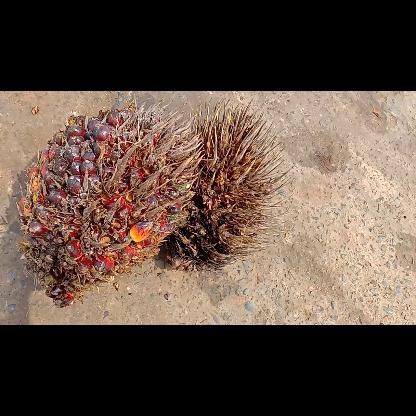Janjang kosong: (160, 97, 290, 270)
TBS masak: (17, 98, 203, 308)
